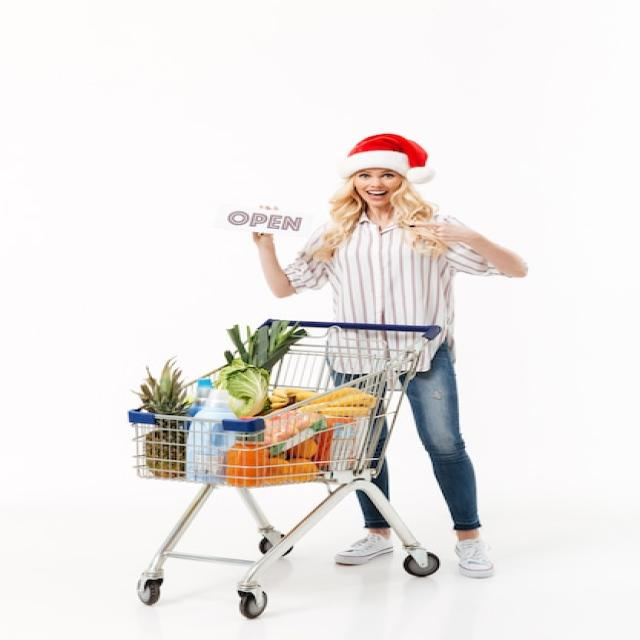Person: (251, 133, 527, 578)
